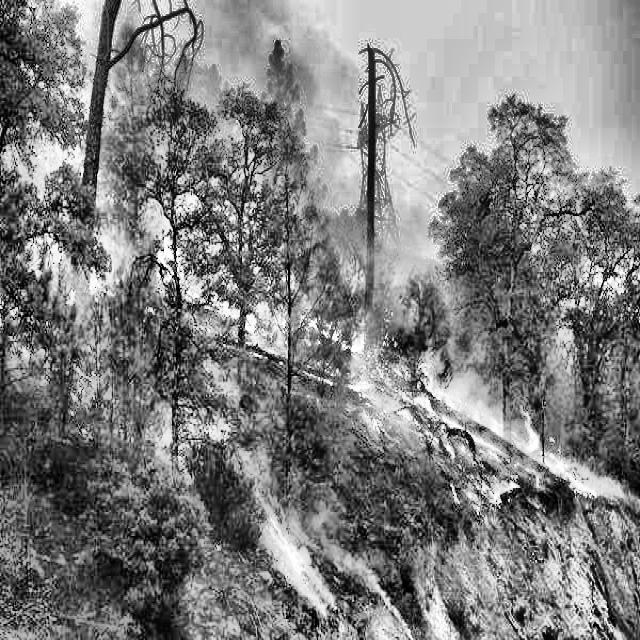fire: (144, 148, 616, 640), (0, 150, 112, 492)
